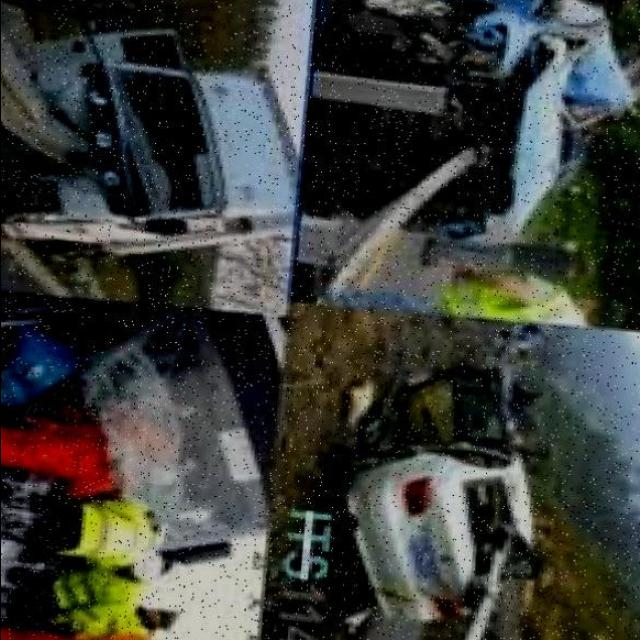accident: (324, 0, 640, 285), (0, 293, 278, 582), (318, 348, 570, 640), (0, 0, 248, 270)
